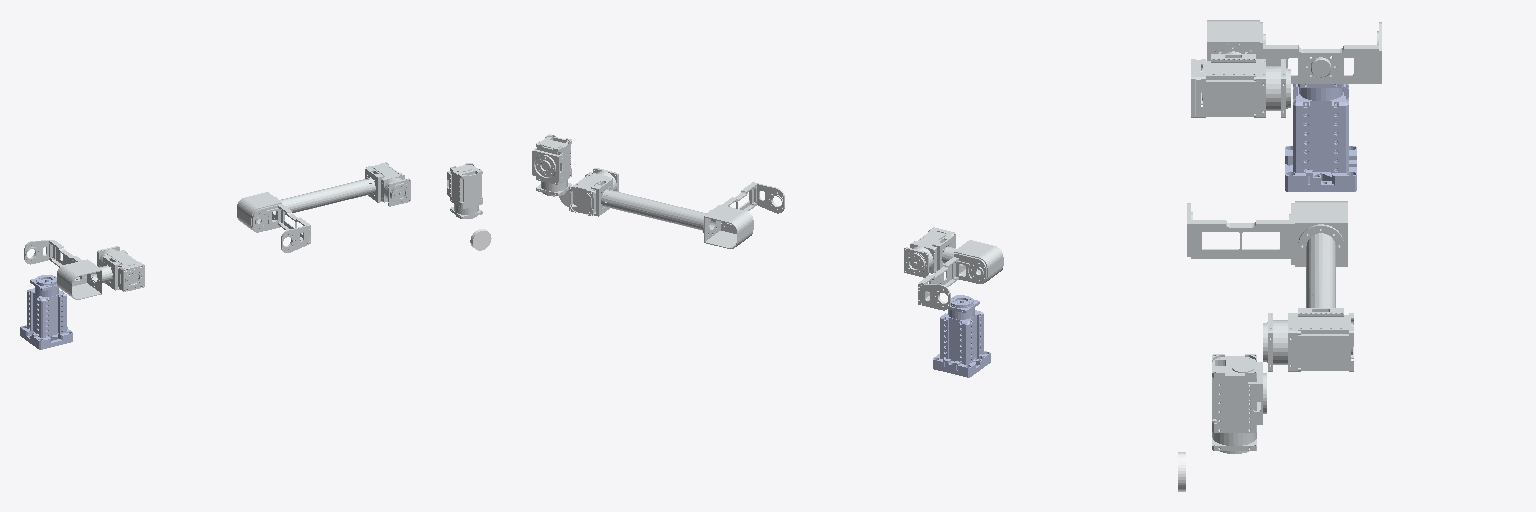
URDF robot description (single_arm_v12):
<?xml version="1.0" encoding="utf-8"?>
<!-- This URDF was automatically created by SolidWorks to URDF Exporter! Originally created by [author] ([email redacted]) 
     Commit Version: 1.6.0-4-g7f85cfe  Build Version: 1.6.7995.38578
     For more information, please see http://wiki.ros.org/sw_urdf_exporter -->
<robot
  name="single_arm_v12">
  <link name="dummy"/>
  <joint name="dummy_joint" type="fixed">
    <parent link="dummy"/>
    <child link="base_link"/>
    </joint>
  <link name='base_link'>
  <!-- <link
    name="base_link"> -->
    <inertial>
      <origin
        xyz="0.00015625 0.00020296 0.064397"
        rpy="0 0 0" />
      <mass
        value="0.47711" />
      <inertia
        ixx="0.00059036"
        ixy="3.555E-10"
        ixz="4.1821E-06"
        iyy="0.00058997"
        iyz="9.8398E-08"
        izz="0.00022102" />
    </inertial>
    <visual>
      <origin
        xyz="0 0 0"
        rpy="0 0 0" />
      <geometry>
        <mesh
          filename="package://single_arm_v12/meshes/base_link.STL" />
      </geometry>
      <material
        name="">
        <color
          rgba="0.79216 0.81961 0.93333 1" />
      </material>
    </visual>
    <collision>
      <origin
        xyz="0 0 0"
        rpy="0 0 0" />
      <geometry>
        <mesh
          filename="package://single_arm_v12/meshes/base_link.STL" />
      </geometry>
    </collision>
  </link>
  <link
    name="Link1">
    <inertial>
      <origin
        xyz="3.4484E-06 0.00039863 0.028769"
        rpy="0 0 0" />
      <mass
        value="0.38613" />
      <inertia
        ixx="0.00047431"
        ixy="-7.0827E-08"
        ixz="-3.5556E-10"
        iyy="0.00017465"
        iyz="4.1821E-06"
        izz="0.00048907" />
    </inertial>
    <visual>
      <origin
        xyz="0 0 0"
        rpy="0 0 0" />
      <geometry>
        <mesh
          filename="package://single_arm_v12/meshes/Link1.STL" />
      </geometry>
      <material
        name="">
        <color
          rgba="0.79216 0.81961 0.93333 1" />
      </material>
    </visual>
    <collision>
      <origin
        xyz="0 0 0"
        rpy="0 0 0" />
      <geometry>
        <mesh
          filename="package://single_arm_v12/meshes/Link1.STL" />
      </geometry>
    </collision>
  </link>
  <joint
    name="Joint1"
    type="revolute">
    <origin
      xyz="0 0 0.1445"
      rpy="0 0 0" />
    <parent
      link="base_link" />
    <child
      link="Link1" />
    <axis
      xyz="0 0 1" />
    <limit
      lower="-3.14"
      upper="3.14"
      effort="50"
      velocity="0" />
  </joint>
  <link
    name="Link2">
    <inertial>
      <origin
        xyz="0.38693170370115737 -0.0002998158936552522 0.020332151021099077"
        rpy="0 0 0" />
      <mass
        value="0.5138042752232314"  />
      <inertia
        ixx="0.0011372959566660747"
        ixy="-5.372102965196798e-05"
        ixz="-0.0016838248343437581"
        iyy="0.009911642123134504"
        iyz="-1.5789001340153304e-05"
        izz="0.009013203868740665" />
    </inertial>
    <visual>
      <origin
        xyz="0 0 0"
        rpy="0 0 0" />
      <geometry>
        <mesh
          filename="package://dynamics/src/dynamics/meshes/merged_single_arm_axis_2.STL" />
      </geometry>
      <material
        name="">
        <color
          rgba="0.89804 0.91765 0.92941 1" />
      </material>
    </visual>
    <collision>
      <origin
        xyz="0 0 0"
        rpy="0 0 0" />
      <geometry>
        <mesh
          filename="package://dynamics/src/dynamics/meshes/merged_single_arm_axis_2.STL" />
      </geometry>
    </collision>
  </link>
  <joint
    name="Joint2"
    type="revolute">
    <origin
      xyz="0 -0.0685 0.0315"
      rpy="1.5708 0 0" />
    <parent
      link="Link1" />
    <child
      link="Link2" />
    <axis
      xyz="0 0 1" />
    <limit
      lower="-3.14"
      upper="3.14"
      effort="50"
      velocity="0" />
  </joint>
  <link
    name="Link3">
    <inertial>
      <origin
        xyz="0.36325368081650655 0.0002051400968318283 -0.019078471025675062"
        rpy="0 0 0" />
      <mass
        value="0.46633726625192845"  />
      <inertia
        ixx="0.0008184439024192132"
        ixy="3.096392332507958e-05"
        ixz="0.0009562848065829495"
        iyy="0.008244030581126242"
        iyz="-9.032059300049537e-06"
        izz="0.007644497680351588" />
    </inertial>
    <visual>
      <origin
        xyz="0 0 0"
        rpy="0 0 0" />
      <geometry>
        <mesh
          filename="package://dynamics/src/dynamics/meshes/merged_single_arm_axis_3.STL" />
      </geometry>
      <material
        name="">
        <color
          rgba="0.898039215686275 0.917647058823529 0.929411764705882 1" />
      </material>
    </visual>
    <collision>
      <origin
        xyz="0 0 0"
        rpy="0 0 0" />
      <geometry>
        <mesh
          filename="package://dynamics/src/dynamics/meshes/merged_single_arm_axis_3.STL" />
      </geometry>
    </collision>
  </link>
  <joint
    name="Joint3"
    type="revolute">
    <origin
      xyz="0.5096499999999999 0 -0.0325"
      rpy="0 0 0" />
    <parent
      link="Link2" />
    <child
      link="Link3" />
    <axis
      xyz="0 0 -1" />
    <limit
      lower="-3.14"
      upper="3.14"
      effort="50"
      velocity="0" />
  </joint>
  <link
    name="Link4">
    <inertial>
      <origin
        xyz="-1.11022302462516E-16 0.0124471610012716 0.0305494763505743"
        rpy="0 0 0" />
      <mass
        value="0.313854171959486" />
      <inertia
        ixx="0.00030905374217572"
        ixy="2.20104937481116E-19"
        ixz="1.99389141092033E-20"
        iyy="0.000138417182248756"
        iyz="-3.51429818496687E-06"
        izz="0.000324741574348905" />
    </inertial>
    <visual>
      <origin
        xyz="0 0 0"
        rpy="0 0 0" />
      <geometry>
        <mesh
          filename="package://single_arm_v12/meshes/Link4.STL" />
      </geometry>
      <material
        name="">
        <color
          rgba="0.898039215686275 0.917647058823529 0.929411764705882 1" />
      </material>
    </visual>
    <collision>
      <origin
        xyz="0 0 0"
        rpy="0 0 0" />
      <geometry>
        <mesh
          filename="package://single_arm_v12/meshes/Link4.STL" />
      </geometry>
    </collision>
  </link>
  <joint
    name="Joint4"
    type="revolute">
    <origin
      xyz="0.47835000000000005 0 0.0325"
      rpy="0 0 3.1416" />
    <parent
      link="Link3" />
    <child
      link="Link4" />
    <axis
      xyz="0 0 1" />
    <limit
      lower="-3.14"
      upper="3.14"
      effort="50"
      velocity="0" />
  </joint>
  <link
    name="Link5">
    <inertial>
      <origin
        xyz="0.0305494763505902 0.0124160882702156 -0.000878959076247798"
        rpy="0 0 0" />
      <mass
        value="0.313854171959487" />
      <inertia
        ixx="0.000324741574348905"
        ixy="-3.50552519309465E-06"
        ixz="2.48162957481373E-07"
        iyy="0.000139268063164469"
        iyz="1.20194589741801E-05"
        izz="0.000308202861260008" />
    </inertial>
    <visual>
      <origin
        xyz="0 0 0"
        rpy="0 0 0" />
      <geometry>
        <mesh
          filename="package://single_arm_v12/meshes/Link5.STL" />
      </geometry>
      <material
        name="">
        <color
          rgba="0.898039215686275 0.917647058823529 0.929411764705882 1" />
      </material>
    </visual>
    <collision>
      <origin
        xyz="0 0 0"
        rpy="0 0 0" />
      <geometry>
        <mesh
          filename="package://single_arm_v12/meshes/Link5.STL" />
      </geometry>
    </collision>
  </link>
  <joint
    name="Joint5"
    type="revolute">
    <origin
      xyz="0 0.0685 0.0346"
      rpy="1.5708 0 1.5708" />
    <parent
      link="Link4" />
    <child
      link="Link5" />
    <axis
      xyz="-1 0 0" />
    <limit
      lower="-3.14"
      upper="3.14"
      effort="50"
      velocity="0" />
  </joint>
  <link
    name="Link6">
    <inertial>
      <origin
        xyz="-1.11022302462516E-16 1.73472347597681E-18 0.0055"
        rpy="0 0 0" />
      <mass
        value="0.0173494454294496" />
      <inertia
        ixx="2.53988652151547E-06"
        ixy="-2.00729161979554E-22"
        ixz="-3.90838944351189E-22"
        iyy="2.53988652151547E-06"
        iyz="-1.17534537510526E-22"
        izz="4.79061561920678E-06" />
    </inertial>
    <visual>
      <origin
        xyz="0 0 0"
        rpy="0 0 0" />
      <geometry>
        <mesh
          filename="package://single_arm_v12/meshes/Link6.STL" />
      </geometry>
      <material
        name="">
        <color
          rgba="1 1 1 1" />
      </material>
    </visual>
    <collision>
      <origin
        xyz="0 0 0"
        rpy="0 0 0" />
      <geometry>
        <mesh
          filename="package://single_arm_v12/meshes/Link6.STL" />
      </geometry>
    </collision>
  </link>
  <joint
    name="Joint6"
    type="revolute">
    <origin
      xyz="0.0346 0.0685 0"
      rpy="1.5708 -1.5708 0" />
    <parent
      link="Link5" />
    <child
      link="Link6" />
    <axis
      xyz="0 0 1" />
    <limit
      lower="-3.14"
      upper="3.14"
      effort="50"
      velocity="0" />
  </joint>
</robot>

--- What the picture shows (computed from the rendered views, not written in the file) ---
3 views of the same robot in one strip: view 1: azimuth 30°, elevation 25°; view 2: azimuth 150°, elevation 25°; view 3: azimuth 270°, elevation 25° (orthographic).
Model single_arm_v12 with 8 links and 7 joints (6 revolute, 1 fixed), rooted at dummy, posed all joints at 0.
Links seen in each view (by area): view 1: Link3, Link2, base_link, Link4; view 2: Link3, Link2, base_link, Link4; view 3: Link3, Link2, base_link, Link4.
Link boxes in pixels (x1,y1,x2,y2): Link3: [237, 162, 410, 252]; Link2: [24, 240, 144, 299]; base_link: [20, 275, 72, 349]; Link4: [447, 163, 482, 218]; Link3: [569, 168, 784, 248]; Link2: [904, 227, 1003, 310]; base_link: [933, 295, 990, 377]; Link4: [532, 134, 571, 196]; Link3: [1187, 201, 1353, 371]; Link2: [1191, 20, 1381, 117]; base_link: [1285, 66, 1356, 191]; Link4: [1212, 354, 1266, 453].
Size in the robot's own frame: 1.06 by 0.2441 by 0.215 metres.
Meshes: 7 distinct files referenced, 5 mesh visuals loaded (5 binary STL); not drawn: 2 (reference not matched to a file when rendering).
